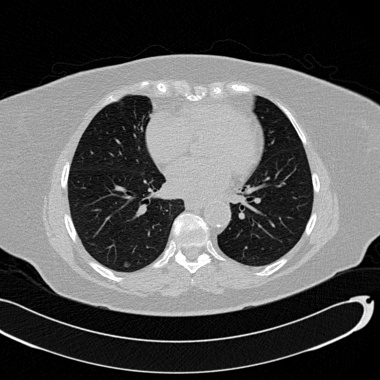PN: (124, 263, 128, 267)
